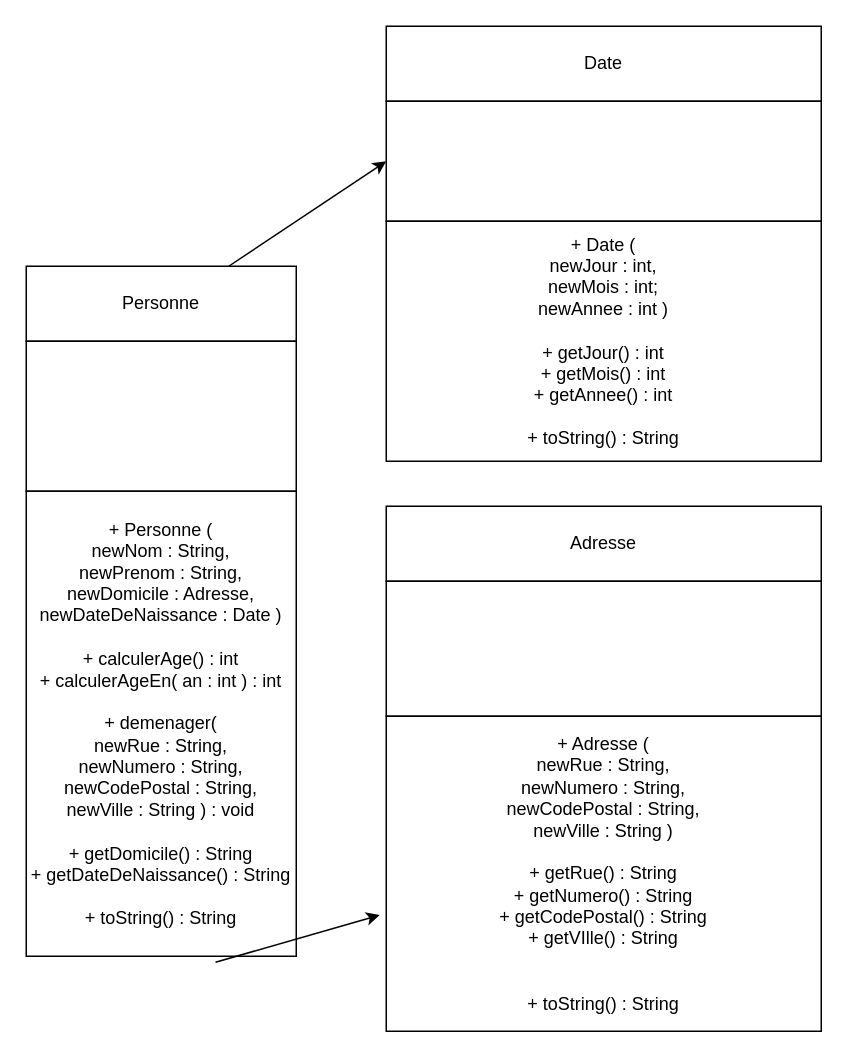
Image size: 848x1058. Some labels were removed from this diagram. Each missing label, with the centre of its shape:
"- jour : int - mois : int - annee : int" goes at (603,160).
"- nom : String - prenom : String - domicile : Adresse - dateDeNaissance : Date" goes at (160,415).
"- rue : String - numero : String - codePostal : String - ville : String" goes at (603,648).
